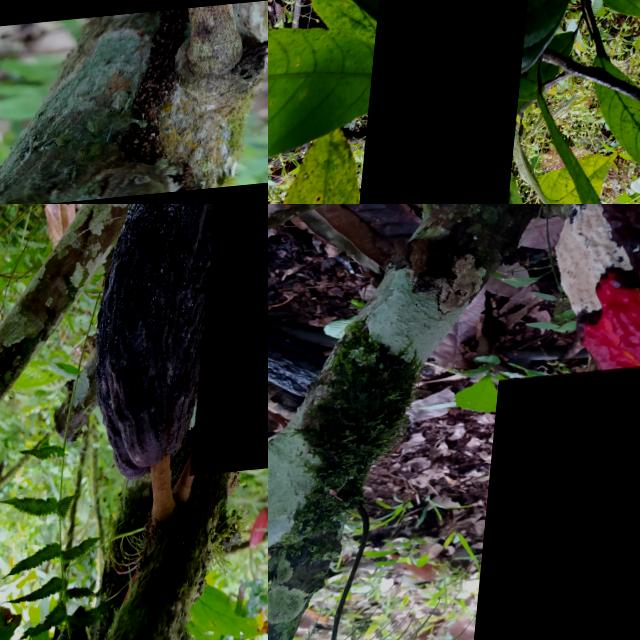Fitoftora: (88, 204, 268, 494), (352, 0, 534, 204), (199, 204, 268, 481)
Monilia: (542, 204, 640, 429)
Sana: (476, 369, 640, 640)
